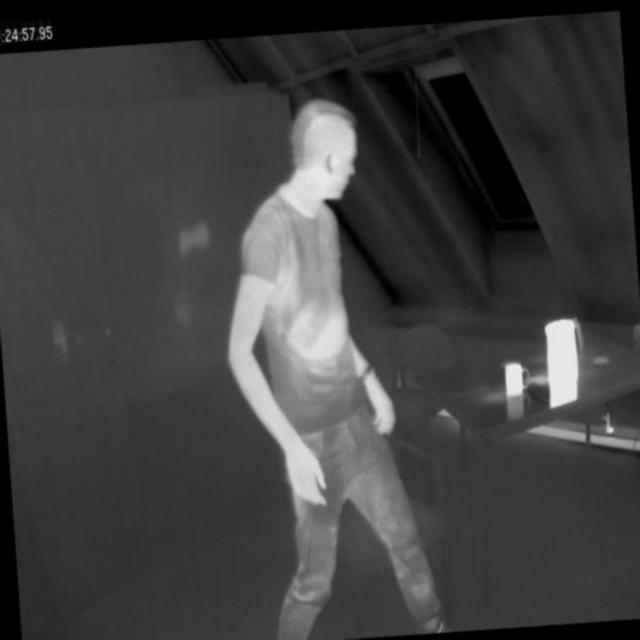person: (204, 73, 476, 640)
